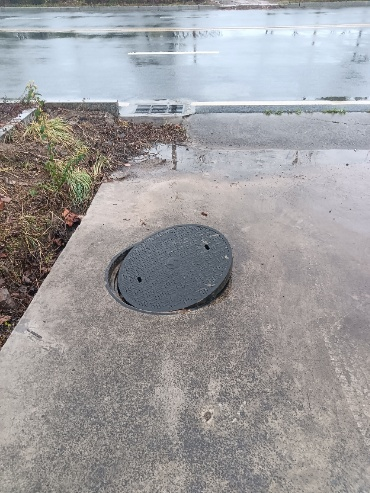uncovered: (105, 223, 233, 313)
